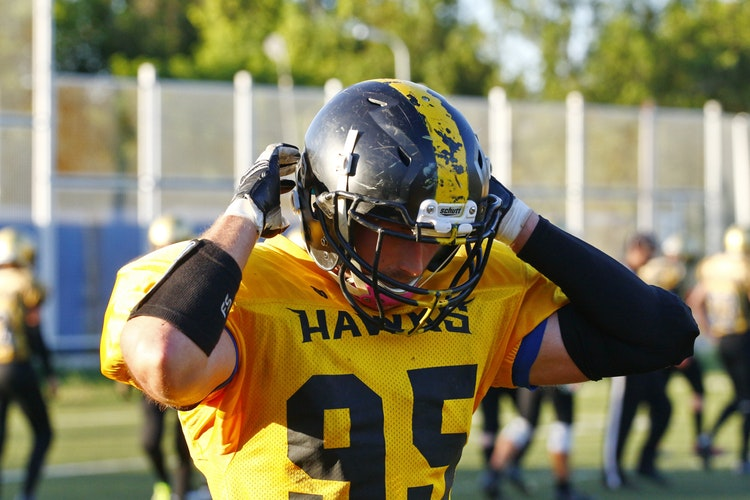helmet: (287, 72, 513, 310)
